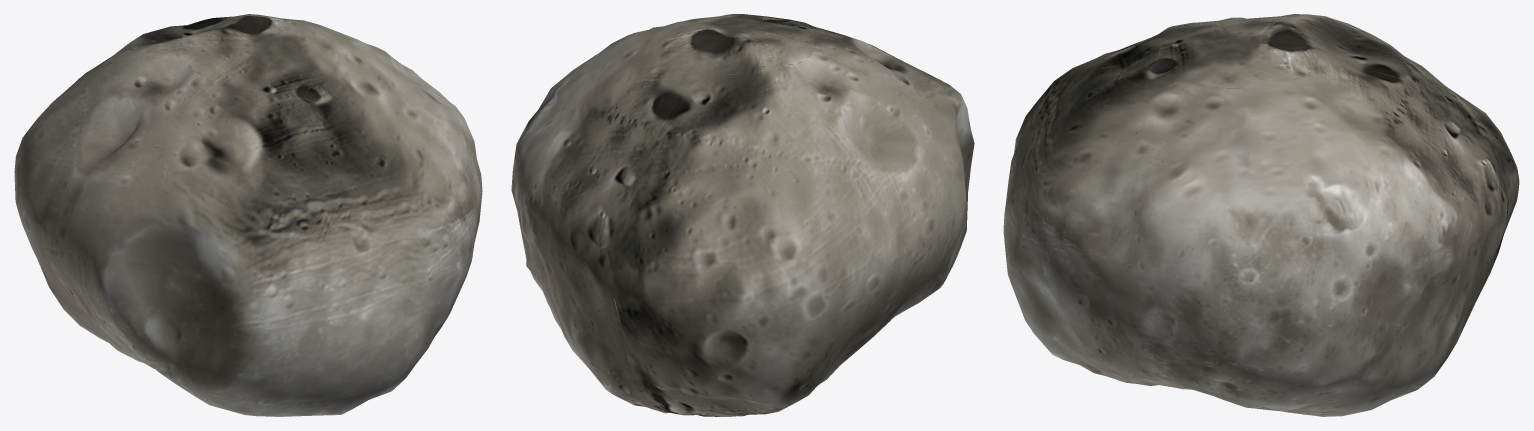
Rendered from Phobos.fbx.
3 renders of one model, left to right at view 1: azimuth 30°, elevation 25°; view 2: azimuth 150°, elevation 25°; view 3: azimuth 270°, elevation 25°, orthographic. The views are drawn at different scales.
Parts seen in each view (by area): view 1: phobos; view 2: phobos; view 3: phobos.
Boxes of the visible parts, x1=… form: phobos: x1=14, y1=14, x2=482, y2=416; phobos: x1=511, y1=14, x2=974, y2=416; phobos: x1=1003, y1=14, x2=1519, y2=416.
Bounding box in the file's own units: 2436 × 2051 × 2701.
1 material, 1 textured.
